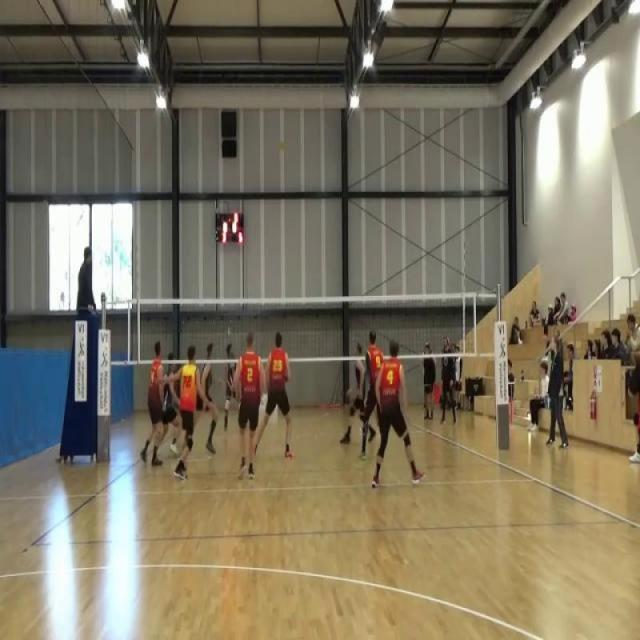volleyball: (278, 139, 286, 152)
